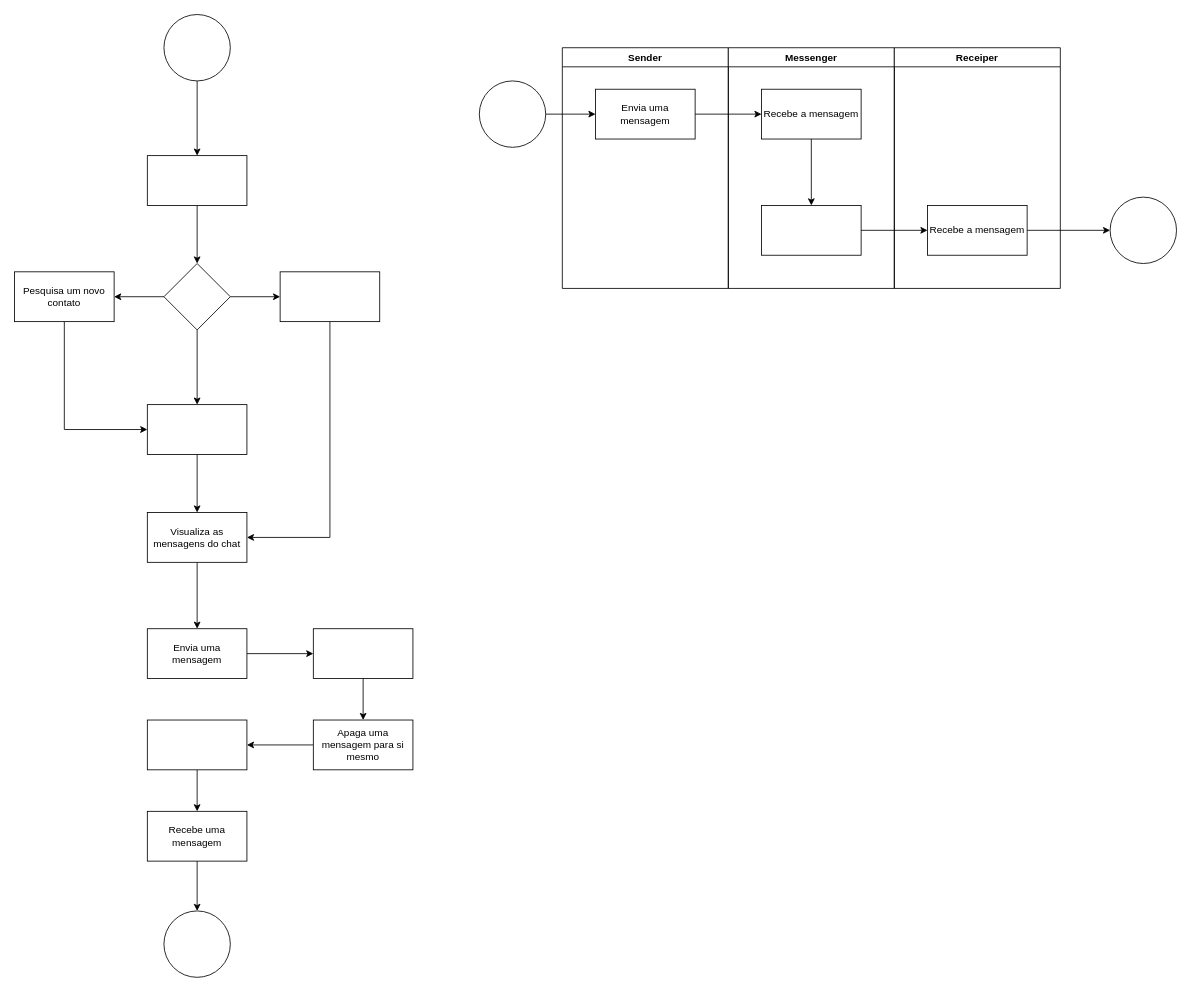
This 1191x992 diagram has some shape labels left out. The centre of each missing label's shape, as x and y in pixels:
Apaga uma mensagem para todos: the point at 196,744
Distribuí a mensagem para os destinatários: the point at 811,230
Entra no chat de um grupo: the point at 329,296
Entra no chat privado de algum contato: the point at 196,429
Envia uma mensagem com arquivo: the point at 362,653
Visualiza a lista de chats: the point at 196,180
